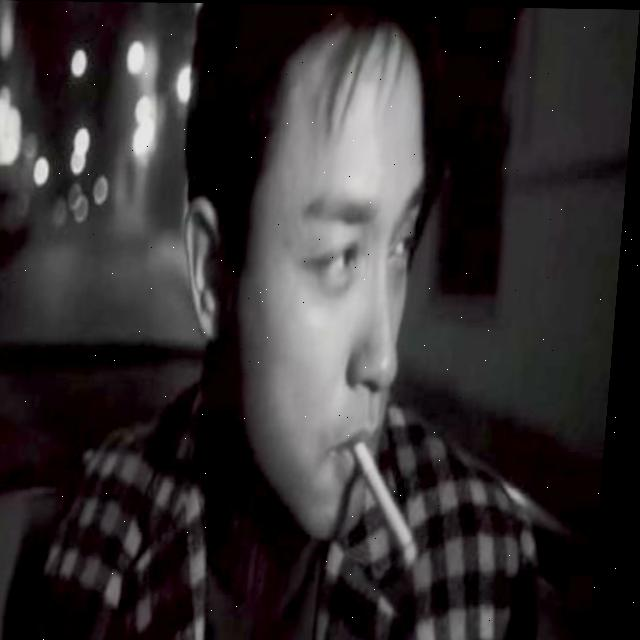cigarette: (356, 440, 434, 568)
